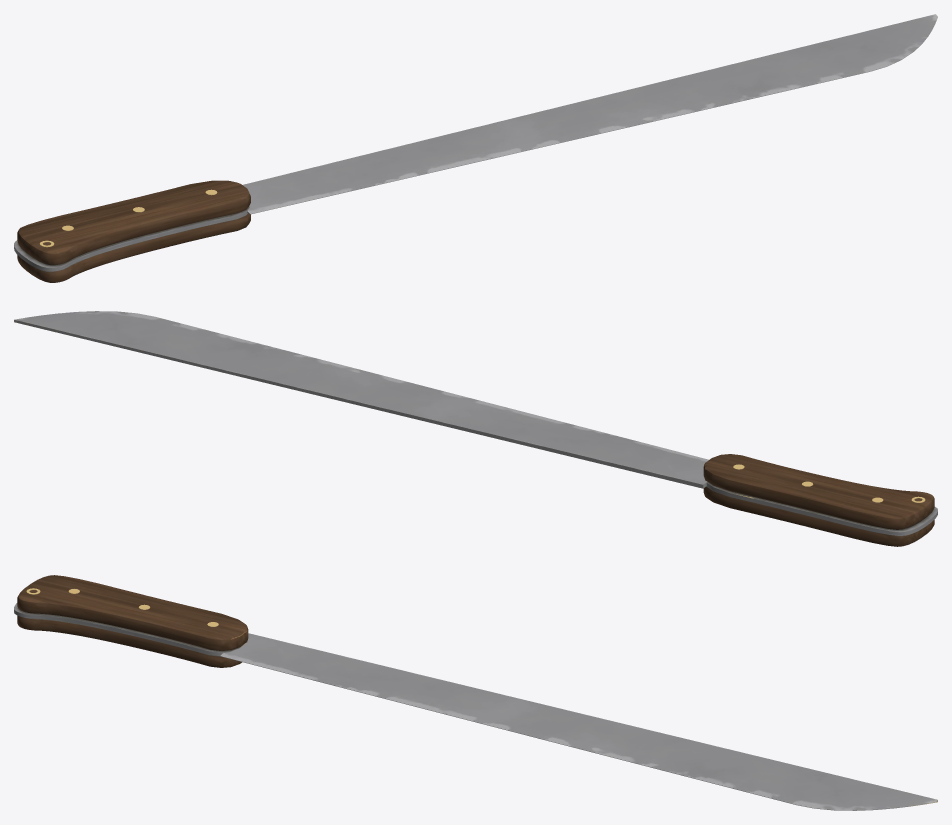
The model's file is facao.glb.
3 views of the same model, one above another, from view 1: azimuth 30°, elevation 25°; view 2: azimuth 150°, elevation 25°; view 3: azimuth 330°, elevation 25° (orthographic). The views are drawn at different scales.
Parts seen in each view (by area): view 1: lamina, cabo; view 2: lamina, cabo; view 3: lamina, cabo.
Boxes of the visible parts, box(x1,y1,x2,y2) form: lamina: box(243, 14, 937, 214); cabo: box(14, 180, 250, 282); lamina: box(14, 311, 708, 488); cabo: box(703, 454, 937, 546); lamina: box(220, 633, 937, 810); cabo: box(14, 575, 248, 667).
Size of the model in its own units: 0.6465 by 0.0214 by 0.0495.
Materials: 1 (1 with a texture image).
